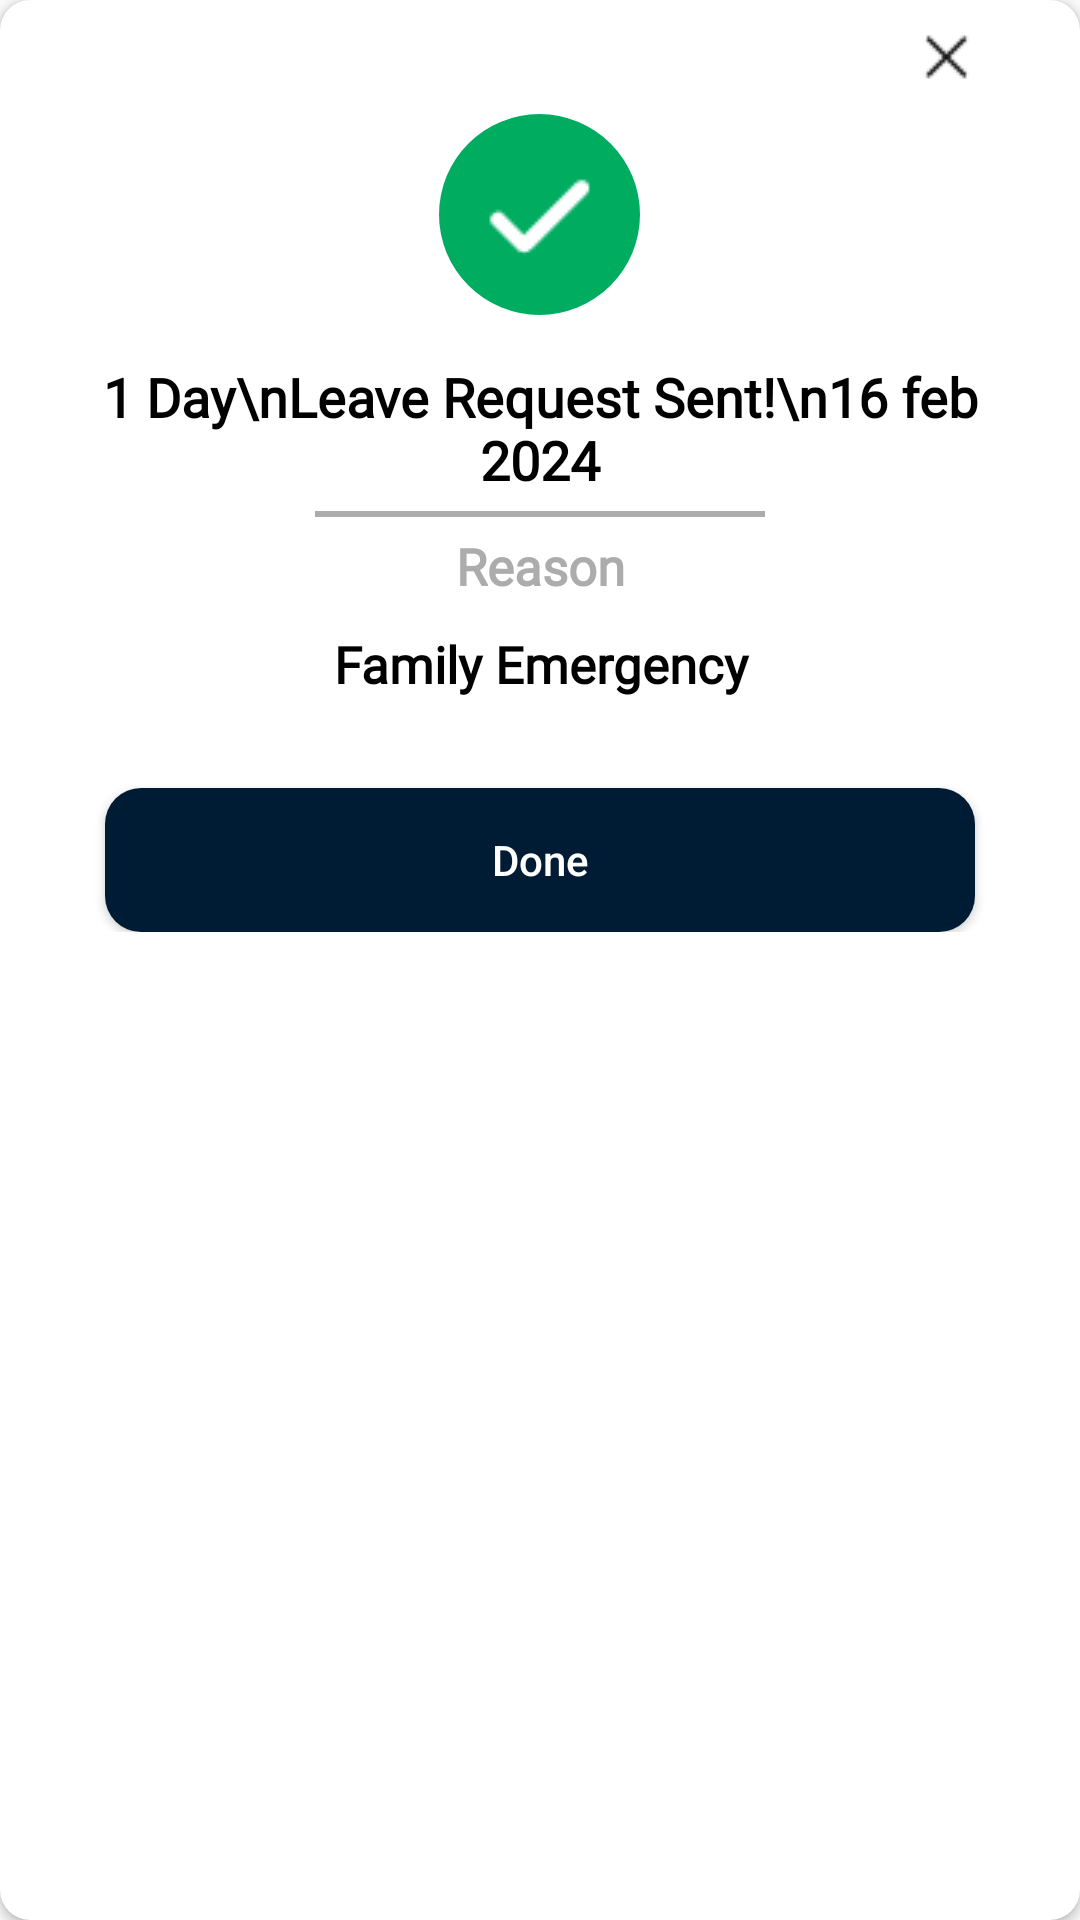

Where icons sit on this 1080px×1920px app screen, as (left=x1, top=y1, right=x2, bottom=y2):
cross: (left=926, top=35, right=967, bottom=79)
